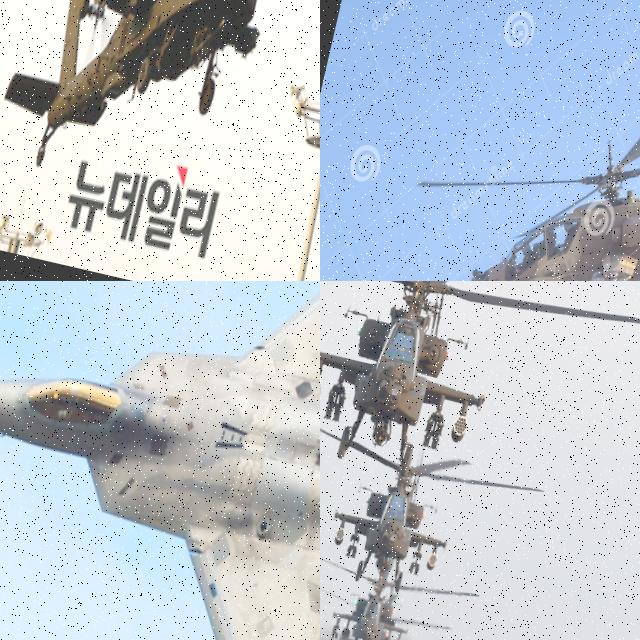Apache: (0, 0, 320, 246), (320, 281, 640, 503), (394, 14, 640, 281), (320, 407, 547, 616), (320, 576, 455, 640)
F22: (0, 281, 320, 640)
